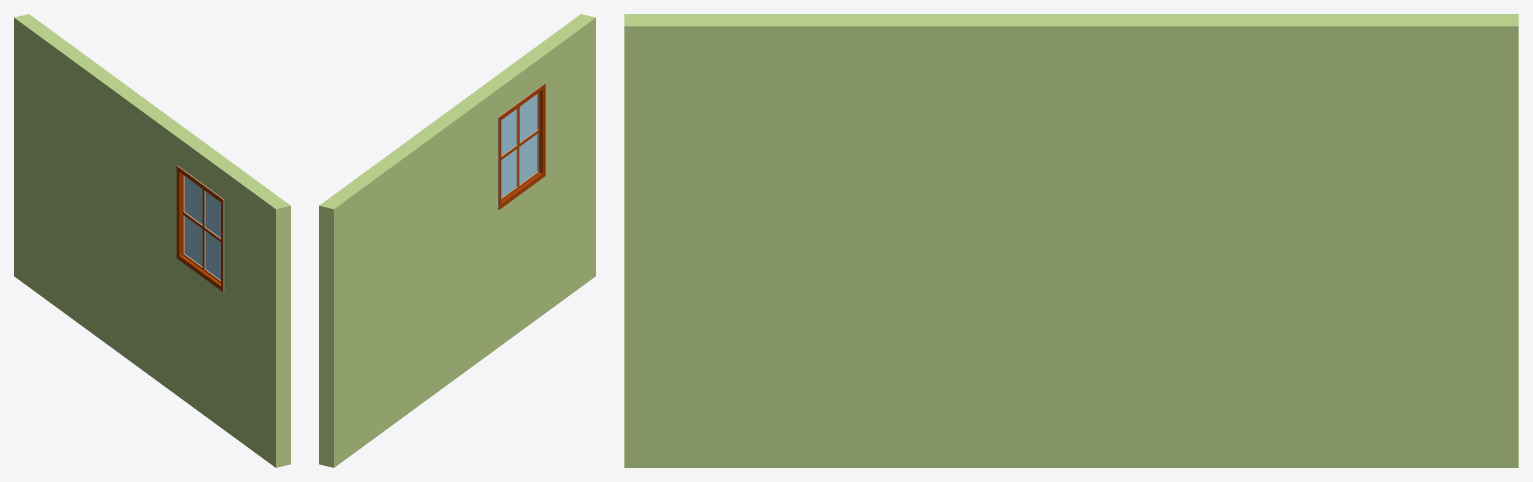
Rendered from WallWithWindow.fbx.
3 views of the same model, side by side, from view 1: azimuth 30°, elevation 25°; view 2: azimuth 150°, elevation 25°; view 3: azimuth 270°, elevation 25° (orthographic). The views are drawn at different scales.
Visible parts, largest first — view 1: Cube; view 2: Cube; view 3: Cube.
Boxes of the visible parts, x1,y1,x2,y2 form: Cube: (14,14,290,467); Cube: (319,14,595,467); Cube: (624,14,1518,467).
Bounding box in the file's own units: 8.28 × 127 × 234.
1 material, 1 textured.
